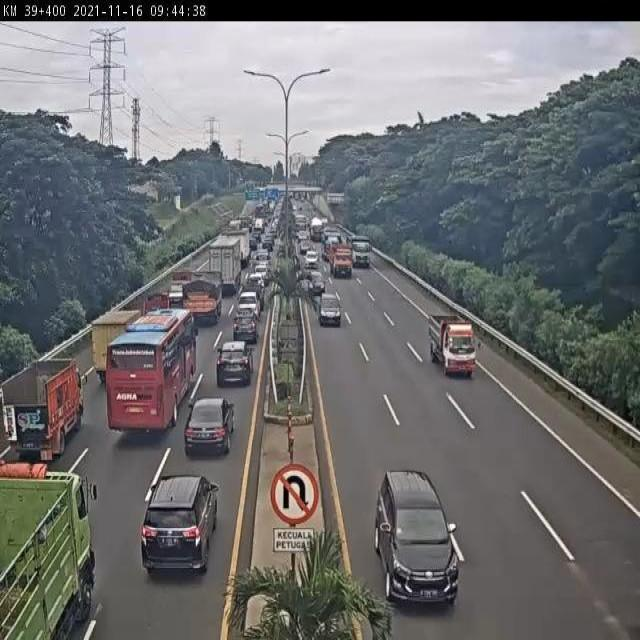Bus: (105, 306, 200, 439), (320, 226, 344, 261)
Car: (373, 470, 459, 605), (140, 472, 220, 576), (183, 397, 234, 459), (215, 340, 254, 389), (231, 305, 259, 344), (318, 292, 342, 328), (237, 290, 261, 322), (308, 271, 325, 295), (253, 264, 271, 284), (245, 272, 266, 286), (304, 249, 319, 268), (299, 240, 311, 256)
Truck: (1, 462, 98, 638), (0, 358, 88, 463), (89, 306, 141, 383), (428, 312, 482, 378), (182, 269, 224, 325), (207, 236, 244, 294), (222, 226, 252, 268), (346, 232, 373, 269), (166, 268, 193, 304), (329, 242, 354, 278), (144, 291, 170, 314), (309, 216, 324, 242)
